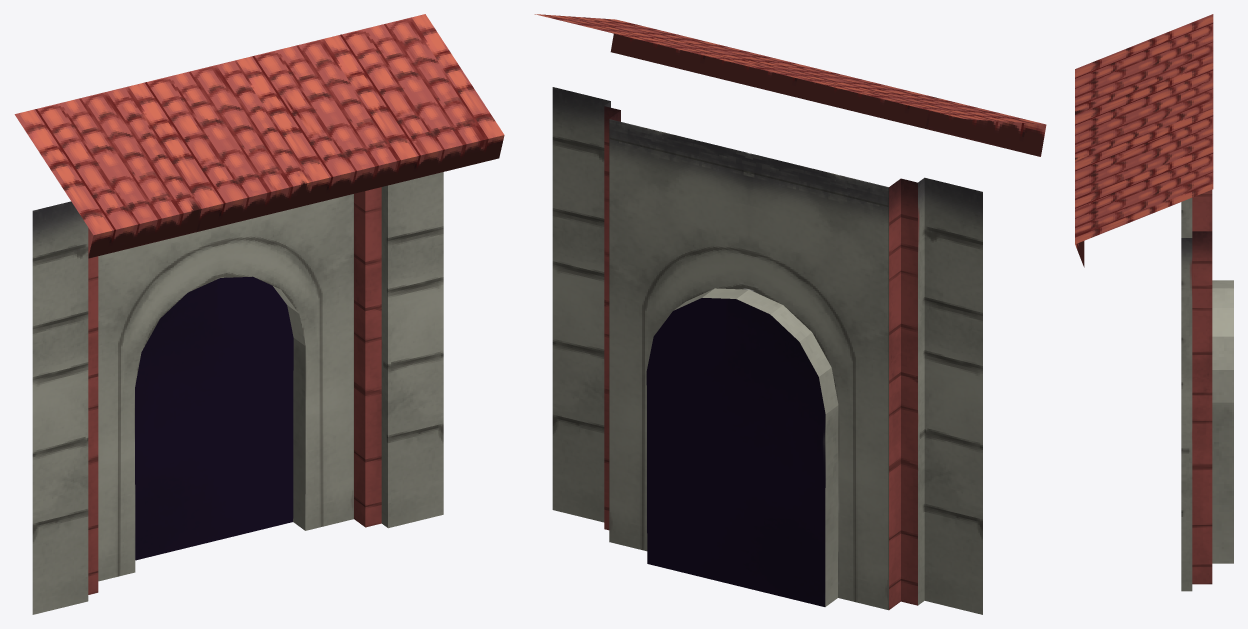
Rendered from Assets_colonial.gltf.
The picture shows the model from 3 angles, left to right: view 1: azimuth 30°, elevation 25°; view 2: azimuth 150°, elevation 25°; view 3: azimuth 270°, elevation 25°; orthographic projection. The views are drawn at different scales.
Parts seen in each view (by area): view 1: Front_Colonial, Gallery_Colonial; view 2: Front_Colonial, Gallery_Colonial; view 3: Gallery_Colonial, Front_Colonial.
Boxes of the visible parts, left/top/right/bottom form: Front_Colonial: left=32, top=172, right=443, bottom=614; Gallery_Colonial: left=14, top=14, right=504, bottom=258; Front_Colonial: left=552, top=87, right=982, bottom=614; Gallery_Colonial: left=534, top=14, right=1046, bottom=156; Gallery_Colonial: left=1075, top=14, right=1213, bottom=267; Front_Colonial: left=1181, top=190, right=1233, bottom=591.
Bounding box in the file's own units: 14 × 15.86 × 5.36.
1 material, 1 textured.
